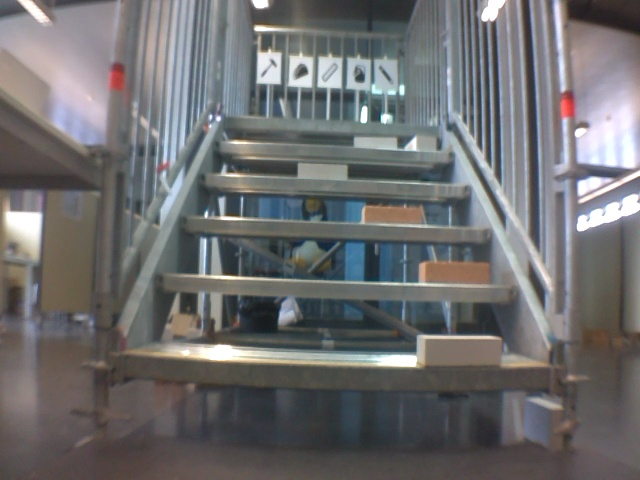brick: (417, 335, 501, 365), (419, 261, 488, 284), (363, 206, 421, 224), (298, 164, 346, 179), (355, 138, 397, 150), (406, 135, 436, 151)
bucket: (350, 63, 368, 85)
edge: (126, 354, 553, 392), (156, 274, 517, 301), (177, 217, 495, 243), (197, 173, 471, 197), (214, 142, 454, 162), (224, 115, 438, 135)
hammer: (259, 56, 278, 80)
pencil: (378, 64, 394, 86)
ruler: (319, 60, 340, 85)
stairs: (86, 3, 579, 441)
steps: (122, 111, 556, 399)
taco: (290, 61, 310, 81)
